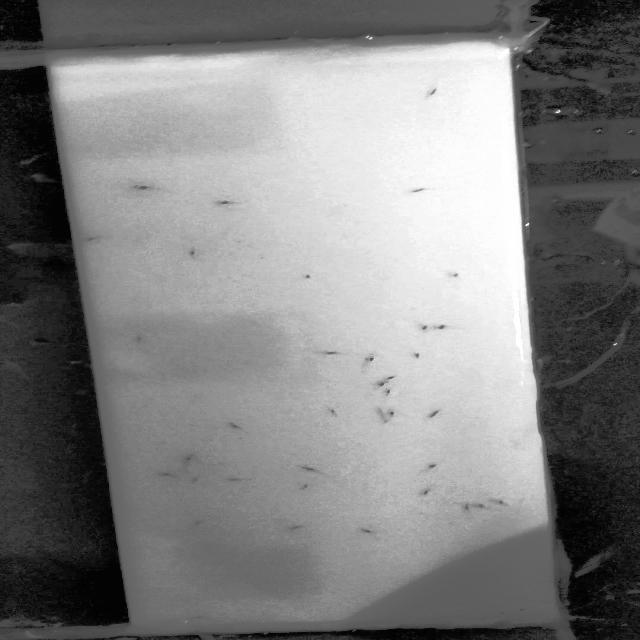shrimp: (419, 78, 448, 100), (219, 421, 261, 435), (411, 460, 452, 474), (296, 461, 334, 476), (78, 230, 115, 243), (376, 370, 409, 384), (306, 348, 356, 357), (410, 317, 433, 336), (414, 483, 445, 497), (207, 196, 246, 207), (404, 182, 438, 194), (506, 604, 546, 614), (383, 408, 402, 429), (452, 500, 474, 518), (182, 612, 216, 623), (127, 181, 161, 192), (351, 524, 382, 536), (188, 515, 214, 529), (124, 331, 155, 342), (362, 381, 396, 391), (433, 319, 457, 333), (486, 496, 515, 507), (289, 484, 317, 495), (428, 404, 444, 423), (480, 606, 510, 616), (324, 405, 345, 419), (222, 475, 254, 484), (178, 454, 206, 464), (468, 502, 495, 512), (191, 475, 209, 490), (451, 270, 472, 282), (376, 388, 400, 398), (360, 354, 381, 365), (283, 522, 308, 531), (187, 244, 201, 260), (292, 271, 312, 279), (159, 471, 180, 478), (403, 351, 426, 357)
